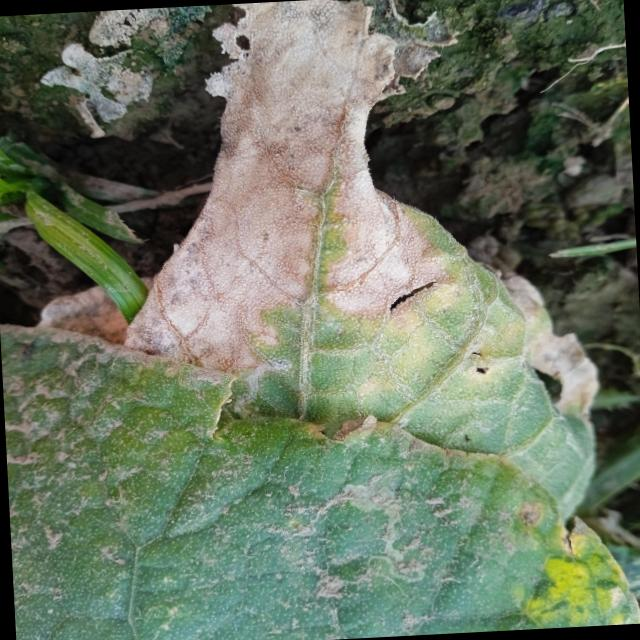cucumber_gummy: (72, 0, 610, 556)
